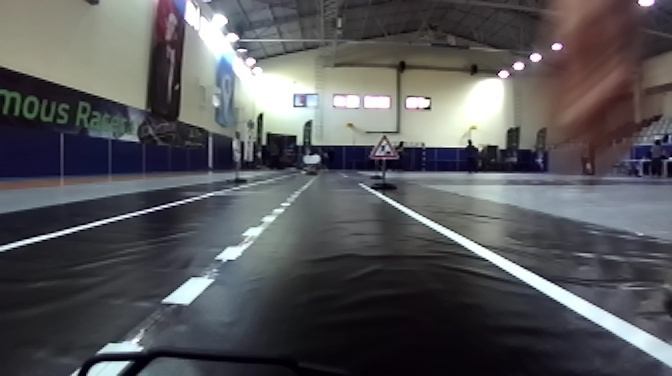yol_yapimi: (367, 133, 398, 165)
